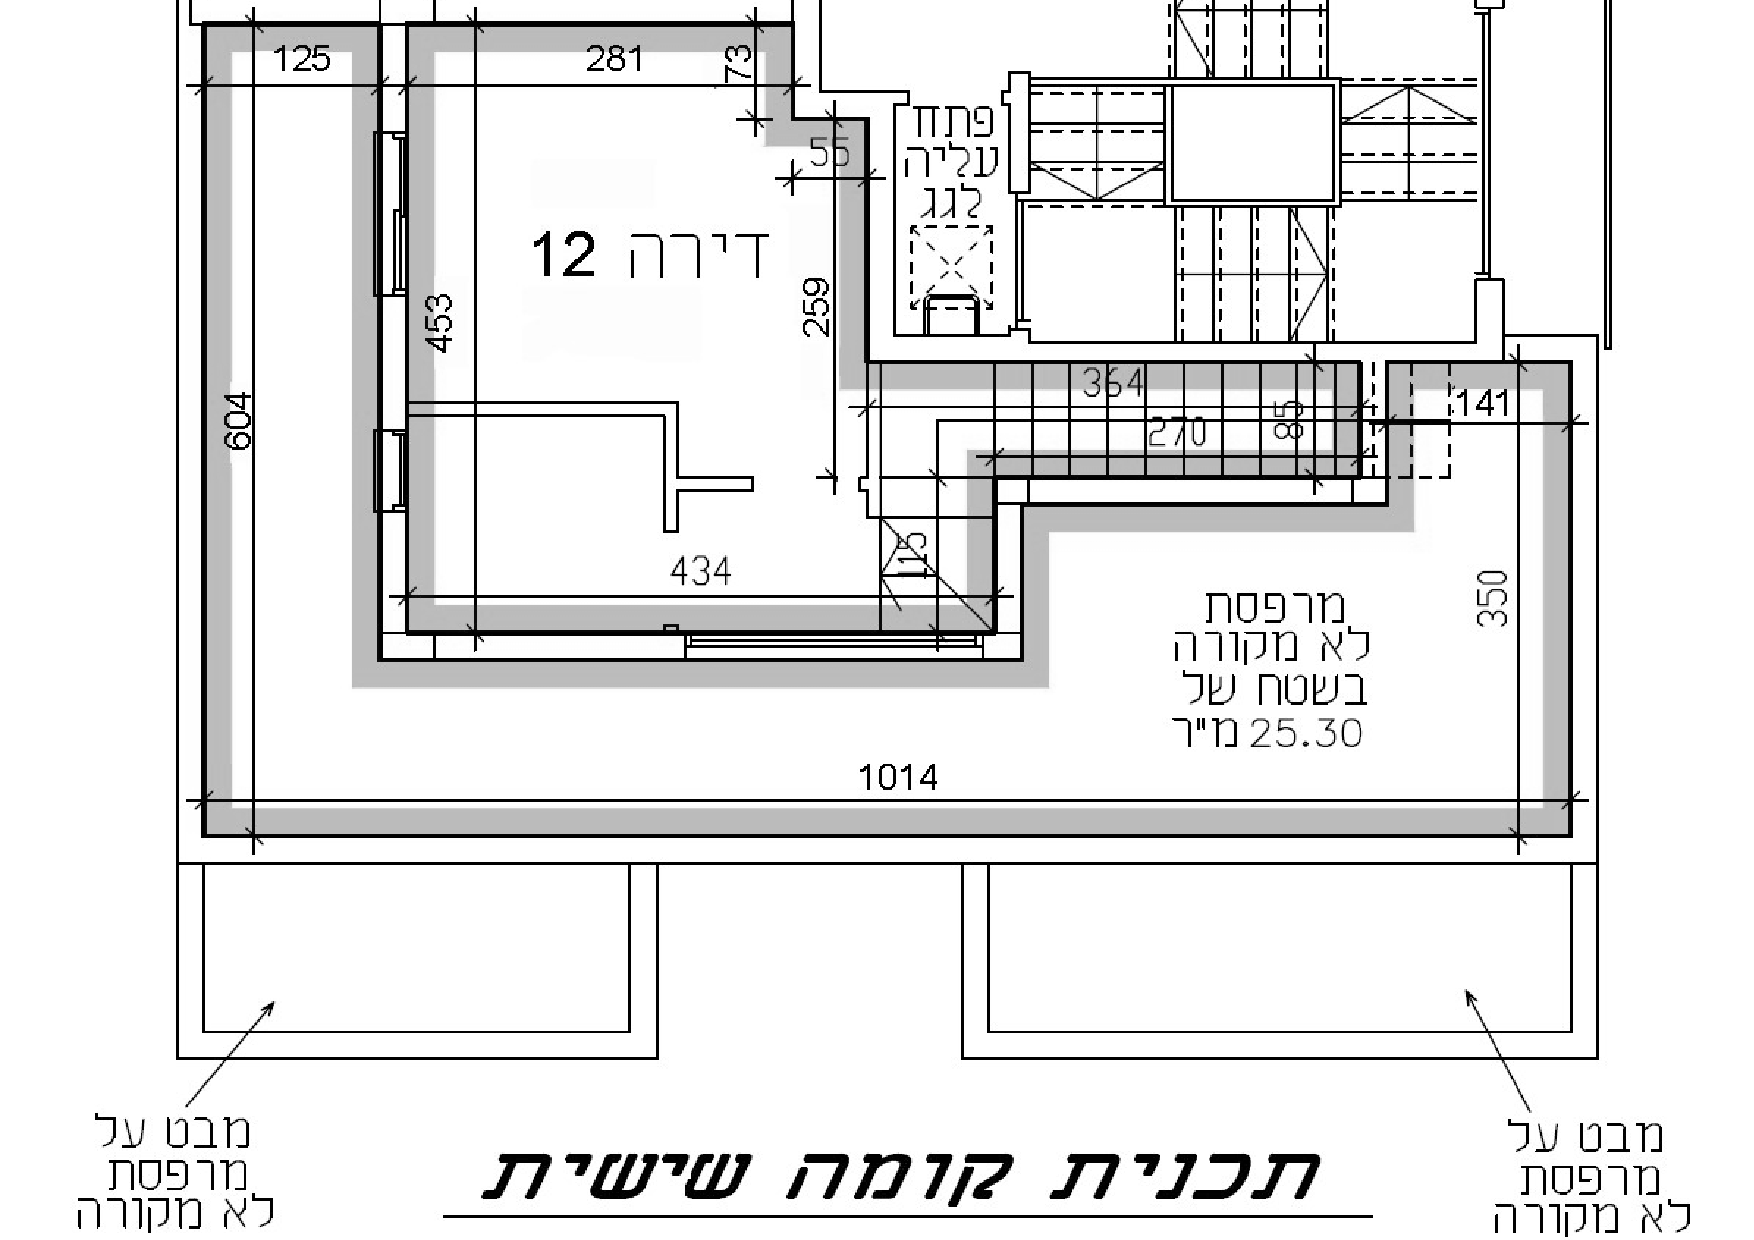wall: (276, 813, 1499, 828), (207, 87, 232, 790), (356, 666, 1041, 691), (1031, 506, 1408, 527), (1547, 428, 1565, 794)
window: (686, 621, 988, 667), (366, 126, 415, 297), (365, 424, 412, 515)
